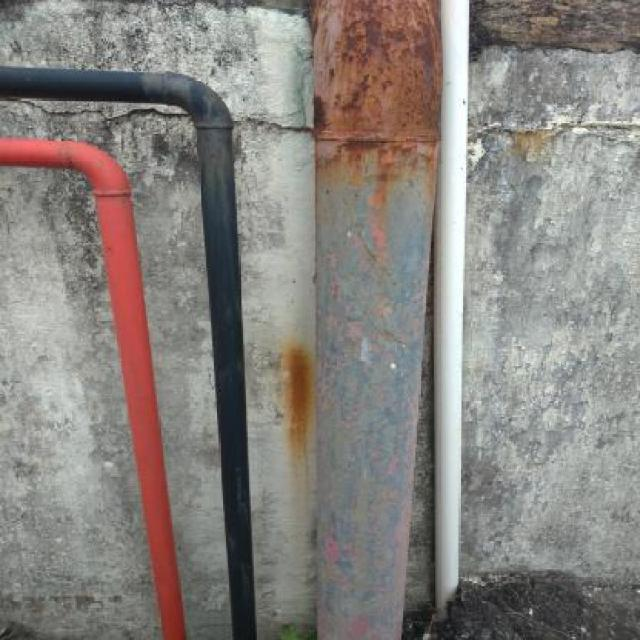gas: (306, 1, 439, 640), (92, 192, 190, 640), (194, 122, 260, 640), (1, 70, 179, 102), (2, 140, 100, 169)
